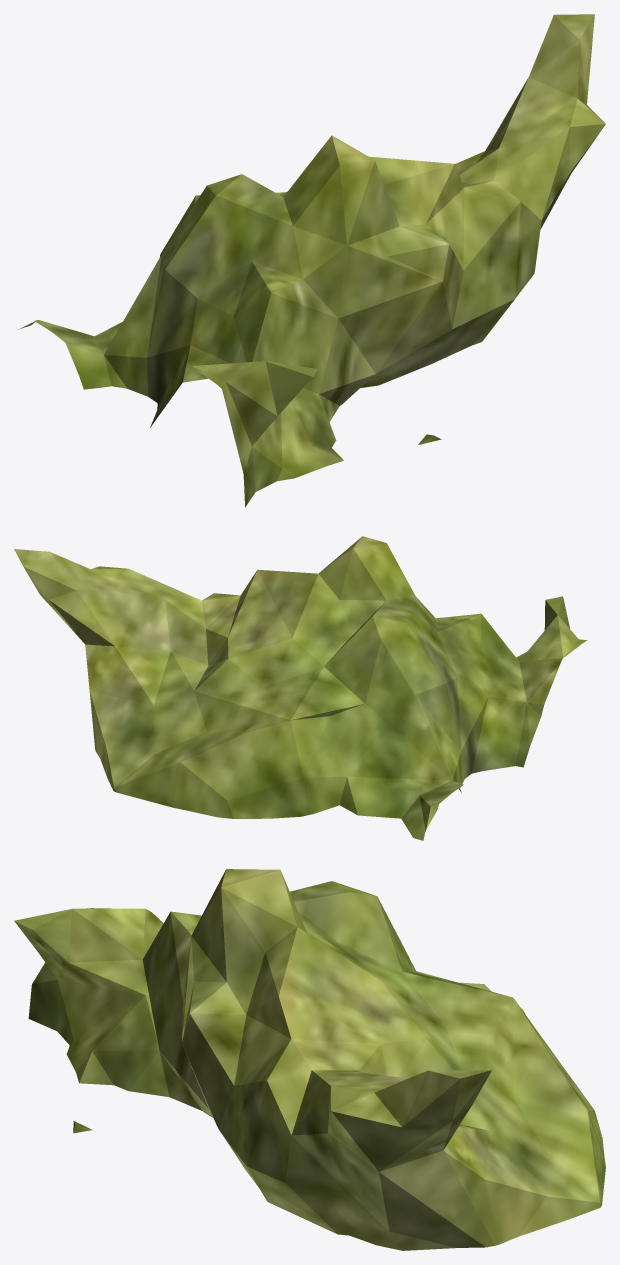
3 views of the same model, one above another, from view 1: azimuth 30°, elevation 25°; view 2: azimuth 150°, elevation 25°; view 3: azimuth 270°, elevation 25° (orthographic). The views are drawn at different scales.
Size of the model in its own units: 1.92 by 0.7931 by 1.66.
Materials: 1 (1 with a texture image).
